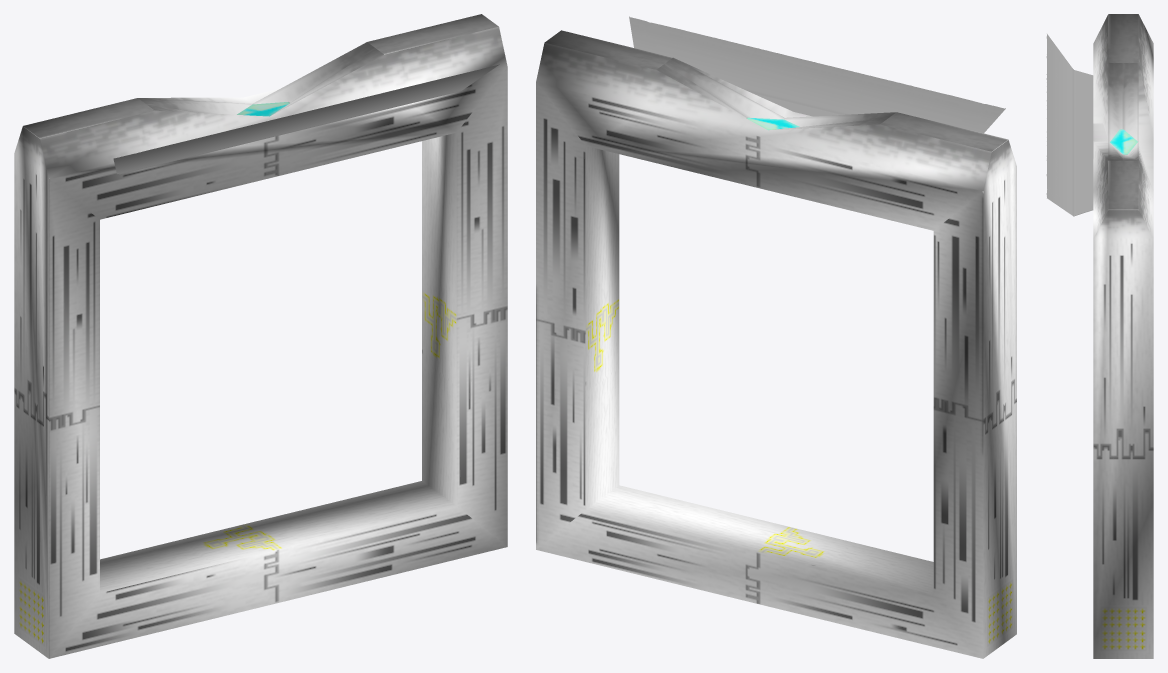
Rendered from data_terminal.obj.
The picture shows the model from 3 angles, left to right: view 1: azimuth 30°, elevation 25°; view 2: azimuth 150°, elevation 25°; view 3: azimuth 270°, elevation 25°; orthographic projection. The views are drawn at different scales.
Visible parts, largest first — view 1: data_terminal; view 2: data_terminal; view 3: data_terminal.
Boxes of the visible parts, box(x1,y1,x2,y2) form: data_terminal: box(14, 14, 507, 658); data_terminal: box(536, 16, 1016, 658); data_terminal: box(1046, 14, 1153, 658).
Size of the model in its own units: 2 by 2.14 by 0.4687.
